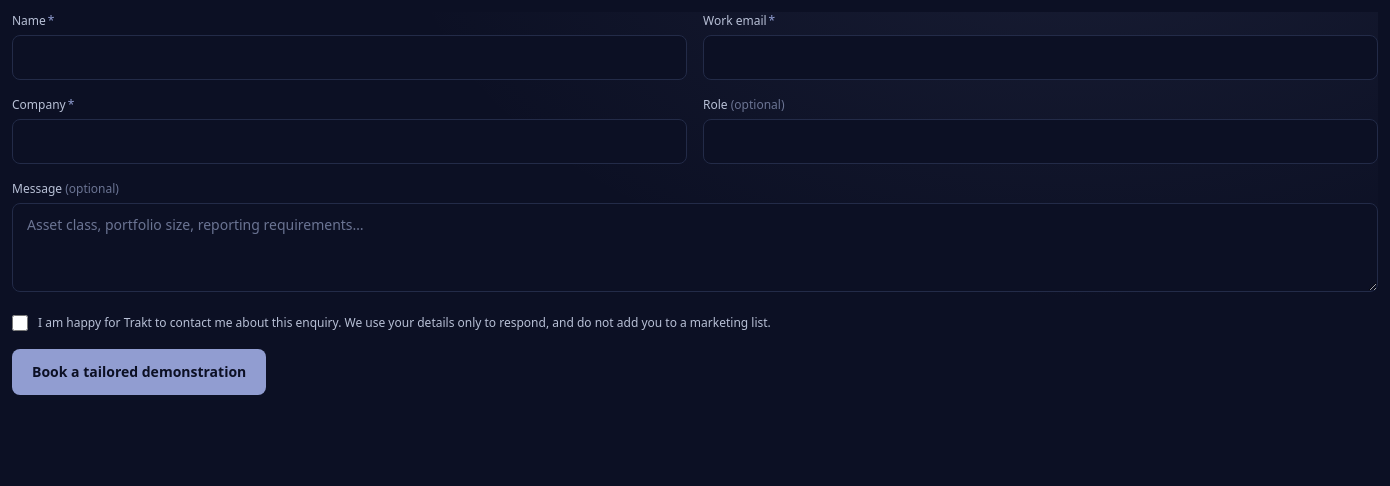
Scenario: LeadForm › blocks submission and shows field errors when invalid
Type "not-an-email" into the field labelled "Work email*" at (1040, 58), box [703,35,1378,80]
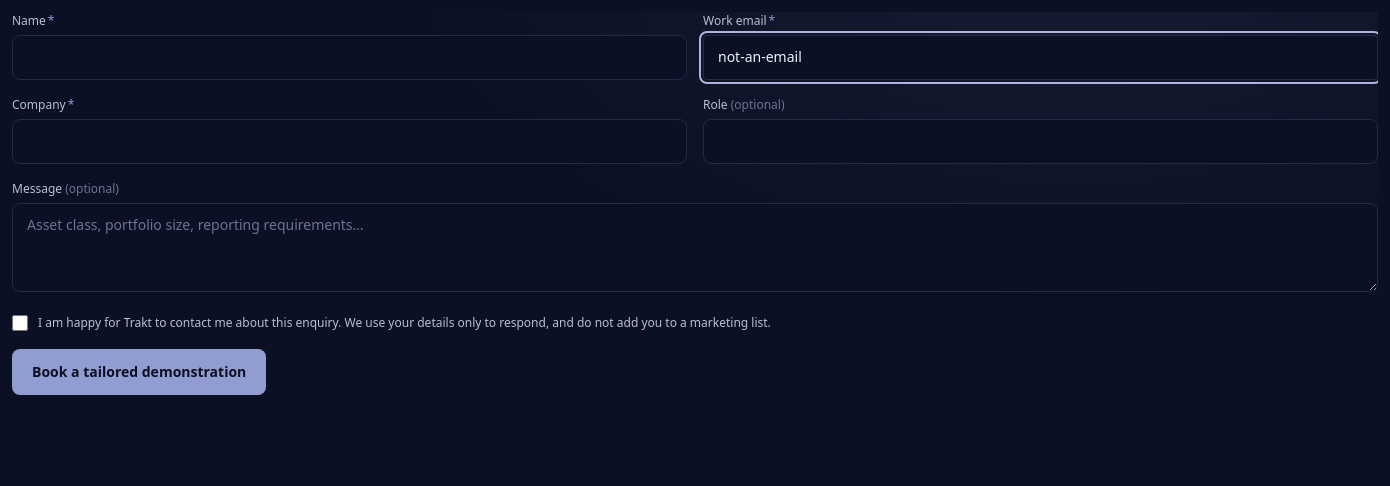
Click the button "Book a tailored demonstration" at (139, 372), box [12,349,266,395]
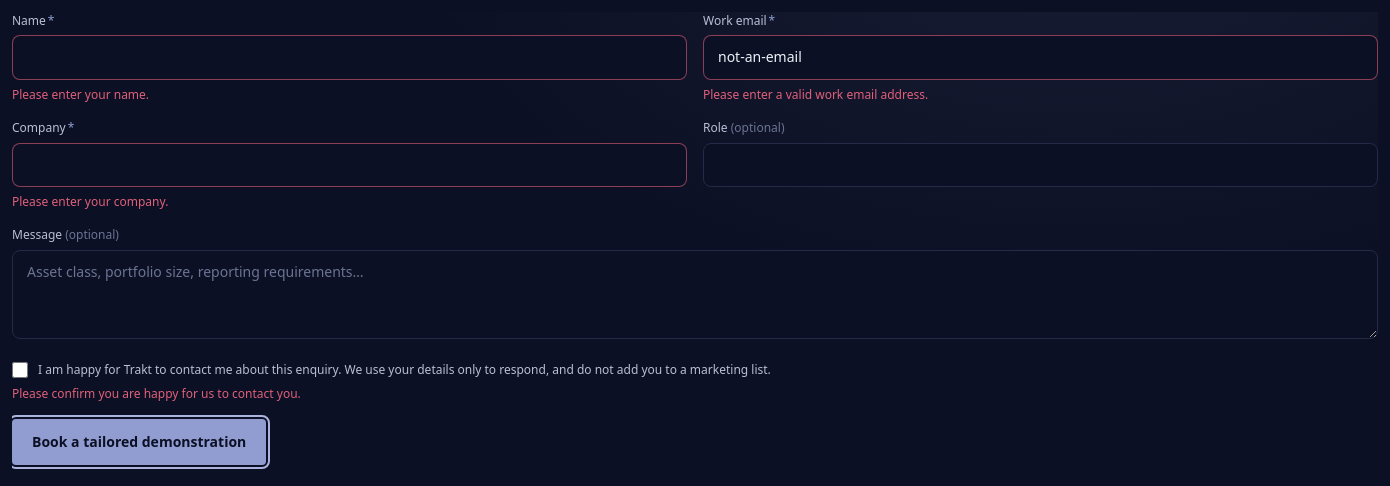
Expected: the text "Please enter your name." is shown, [12,86,149,103]
Expected: the text "Please enter a valid work email address." is shown, [703,86,928,103]
Expected: the text "Please confirm you are happy for us to contact you." is shown, [12,385,301,402]
